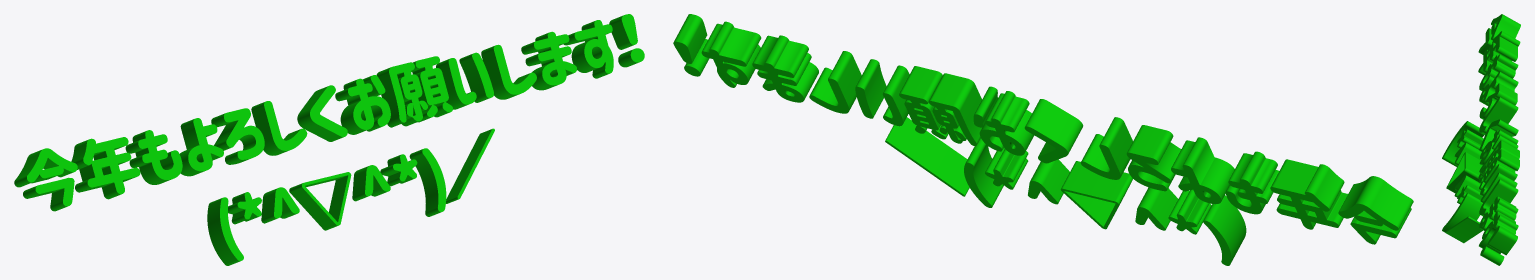
3 views of the same model, side by side, from view 1: azimuth 30°, elevation 25°; view 2: azimuth 150°, elevation 25°; view 3: azimuth 270°, elevation 25° (orthographic). The views are drawn at different scales.
Parts seen in each view (by area): view 1: テキスト; view 2: テキスト; view 3: テキスト.
Boxes of the visible parts, box(x1,y1,x2,y2) form: テキスト: box(14, 14, 644, 265); テキスト: box(673, 14, 1413, 265); テキスト: box(1442, 14, 1520, 265).
Bounding box in the file's own units: 8.09 × 1.7 × 1.23.
